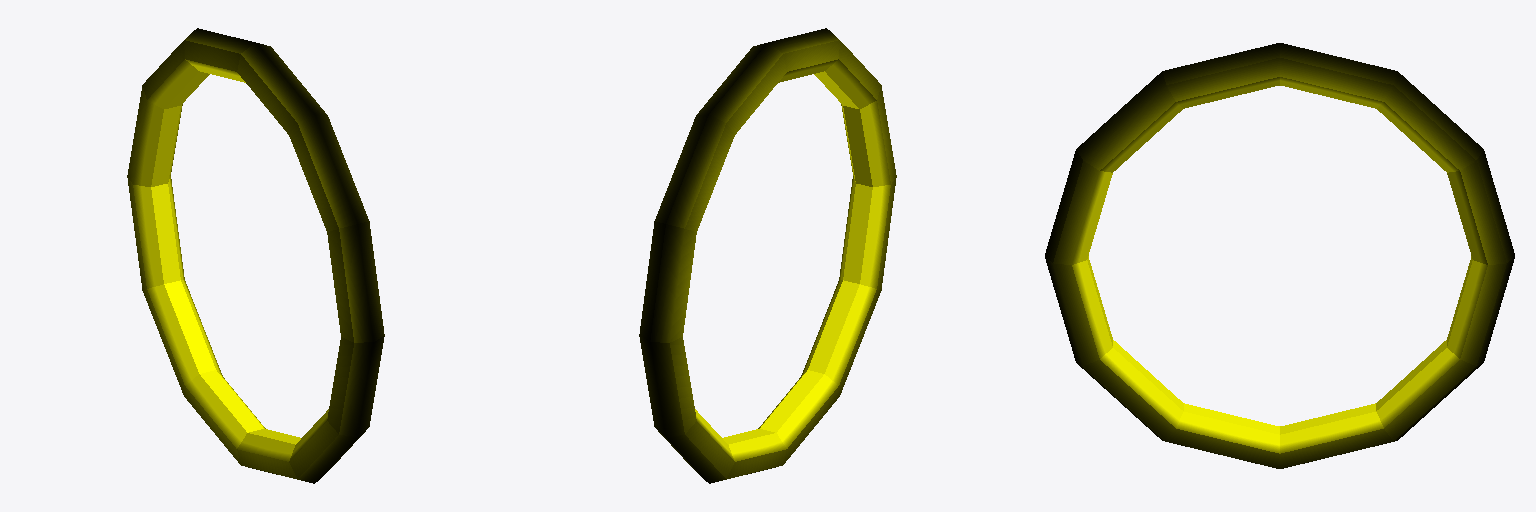
3 renders of one model, left to right at view 1: azimuth 30°, elevation 25°; view 2: azimuth 150°, elevation 25°; view 3: azimuth 270°, elevation 25°, orthographic.
Visible parts, largest first — view 1: Torus; view 2: Torus; view 3: Torus.
Boxes of the visible parts, <box> form: Torus: <box>127,28,384,483</box>; Torus: <box>639,28,896,483</box>; Torus: <box>1045,43,1514,468</box>.
Bounding box in the file's own units: 0.2437 × 2.62 × 2.62.
Materials: 1 (1 with a texture image).